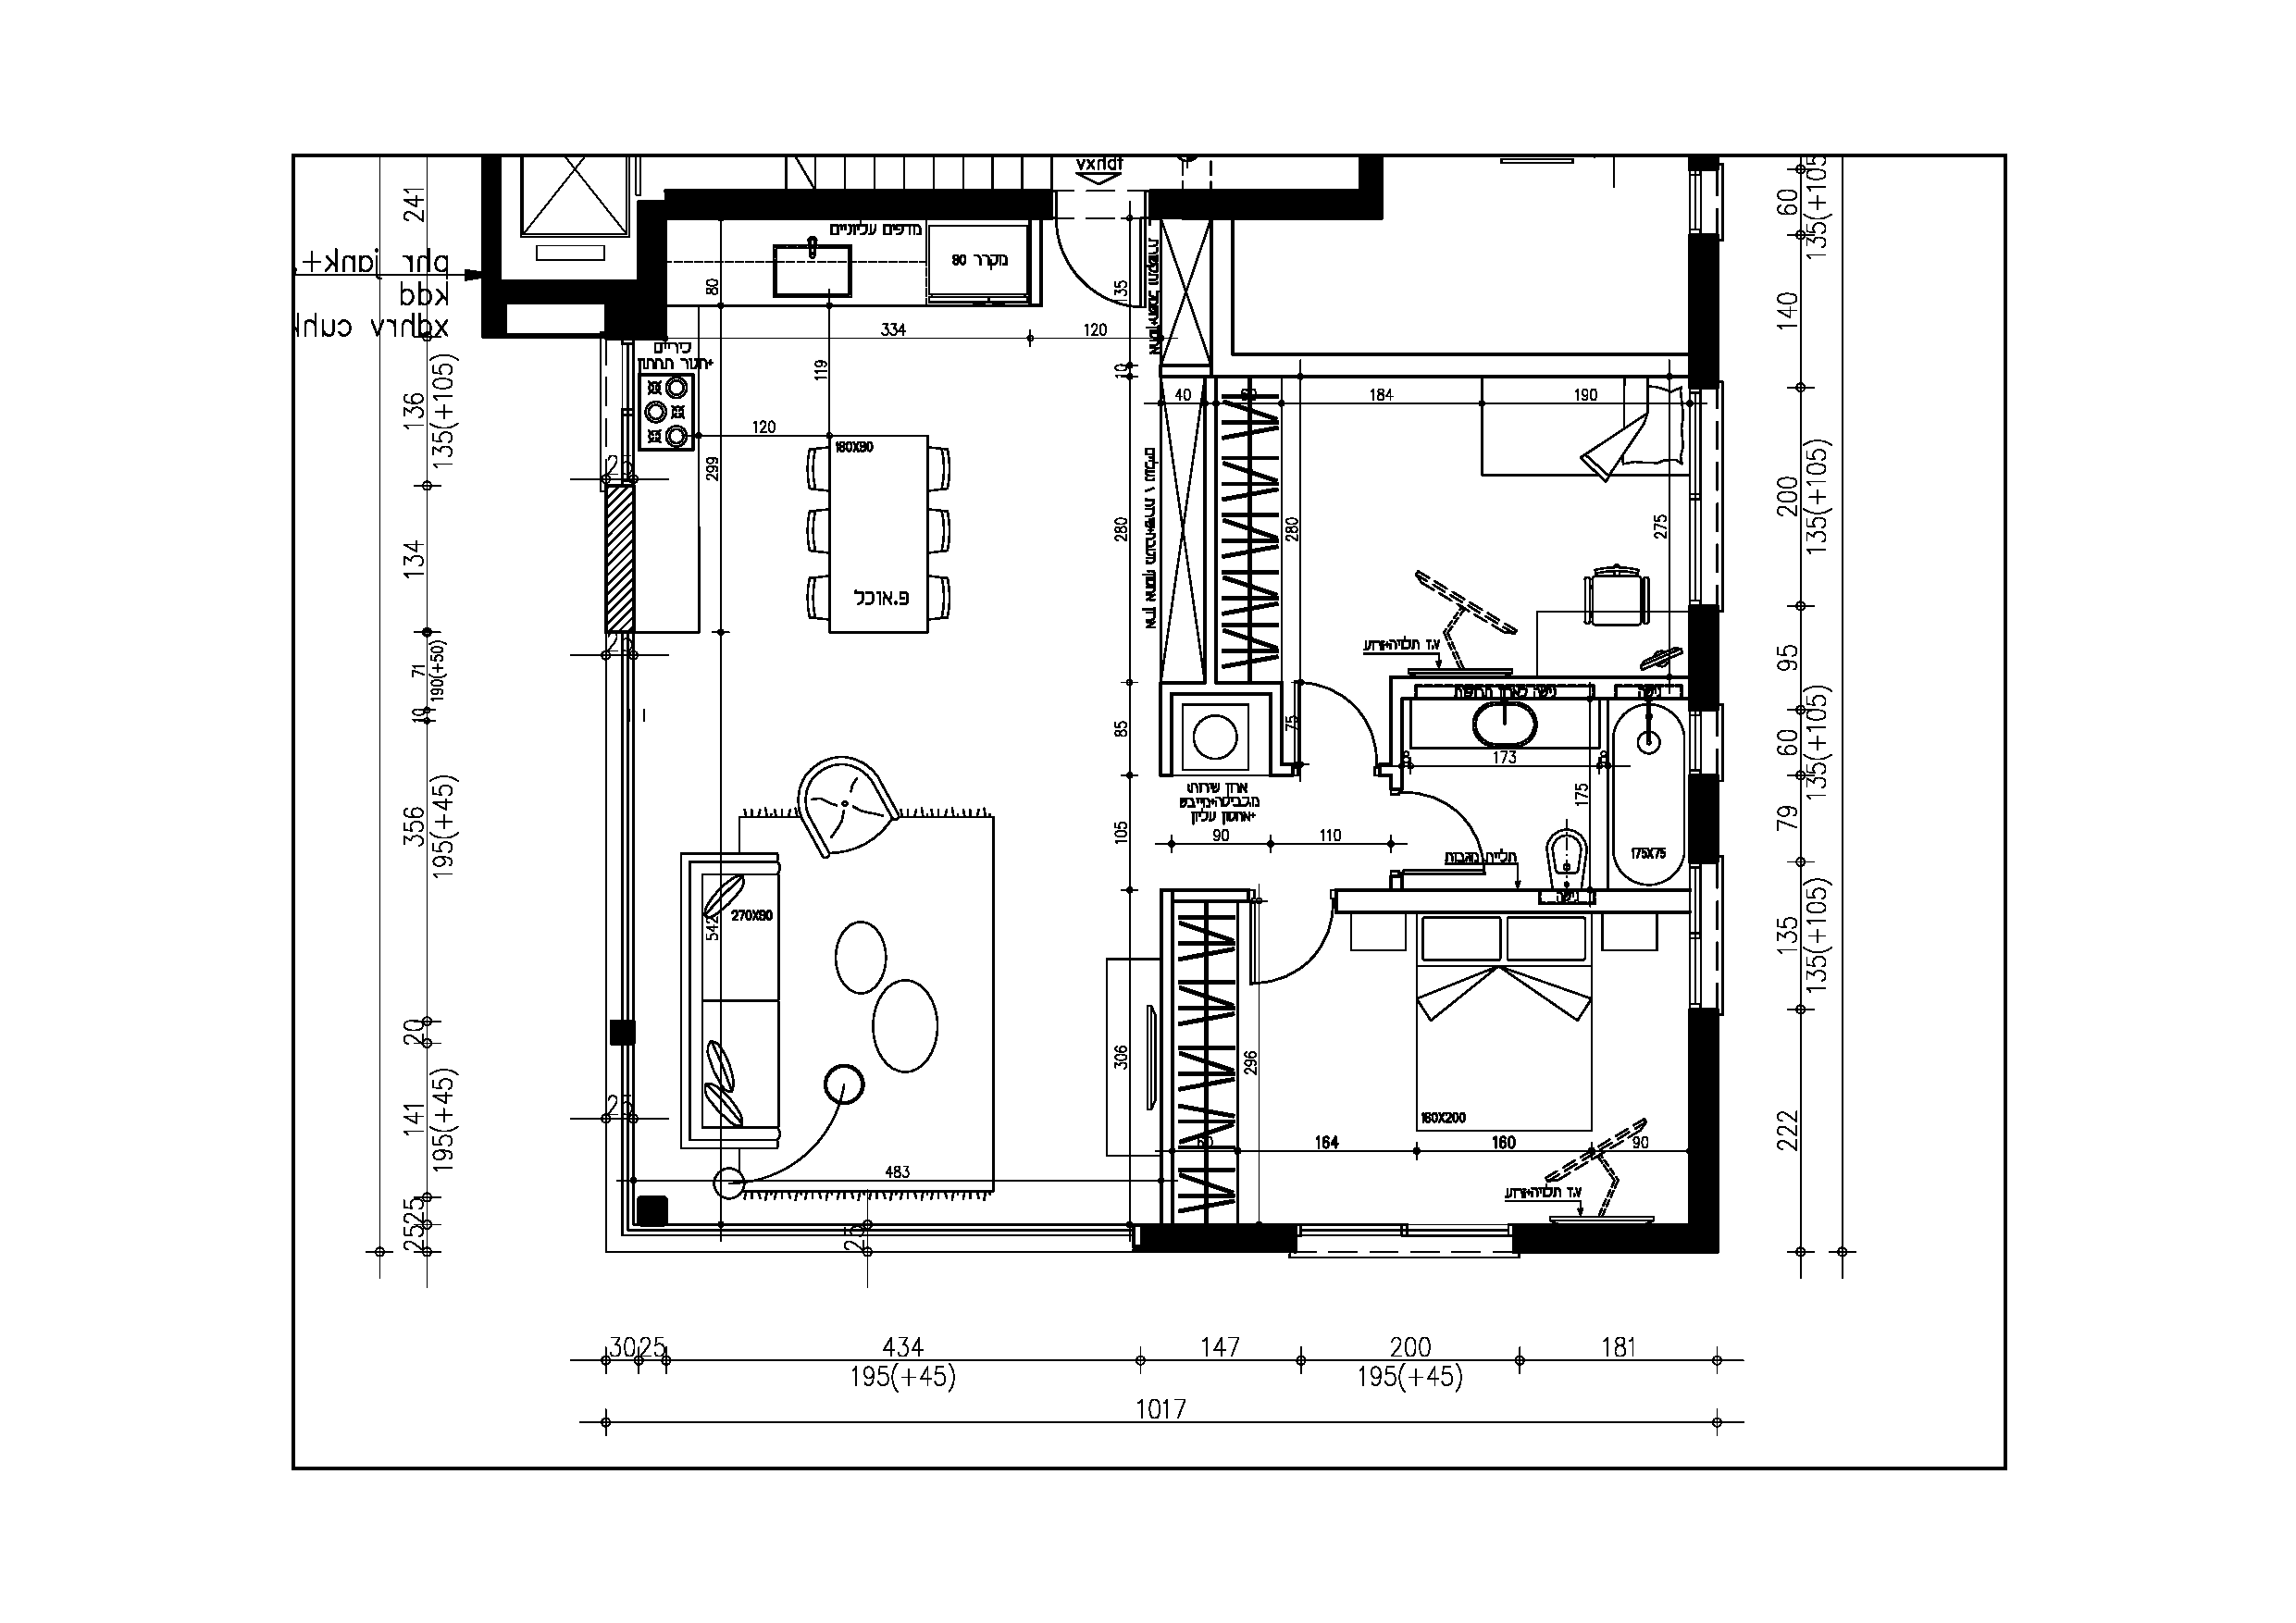door: (1056, 218, 1144, 314), (1298, 671, 1386, 768), (1258, 913, 1342, 998)
wall: (661, 191, 1056, 218), (1690, 1006, 1720, 1238), (1158, 191, 1381, 218), (1518, 1230, 1713, 1254), (634, 198, 662, 334), (1135, 1228, 1298, 1249)
window: (1688, 864, 1700, 1001), (1690, 497, 1702, 602), (1690, 711, 1700, 773)
